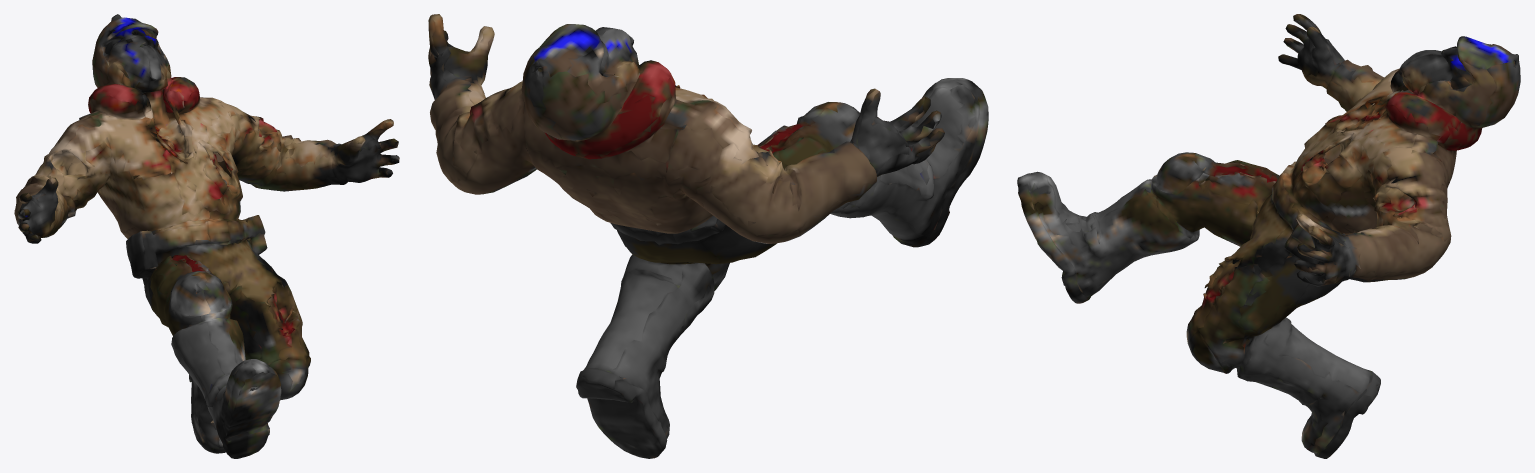
The model's file is POSSI0.obj.
The picture shows the model from 3 angles, left to right: view 1: azimuth 30°, elevation 25°; view 2: azimuth 150°, elevation 25°; view 3: azimuth 270°, elevation 25°; orthographic projection. The views are drawn at different scales.
Bounding box in the file's own units: 0.9356 × 0.8945 × 1.
Materials: 1 (1 with a texture image).
